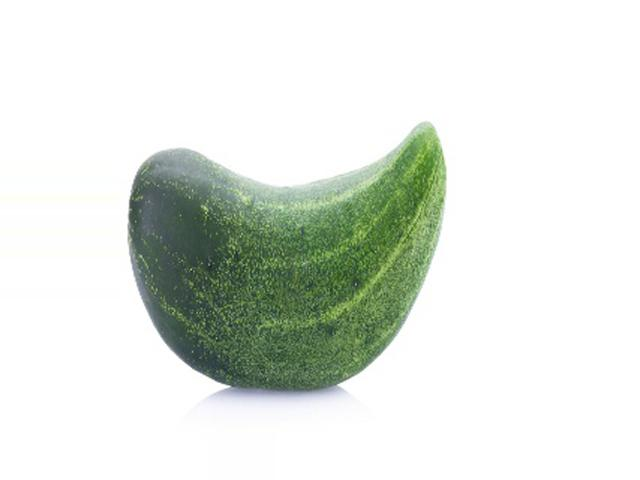cucumber: (127, 123, 448, 390)
